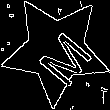M_NW: (23, 16, 89, 84)
